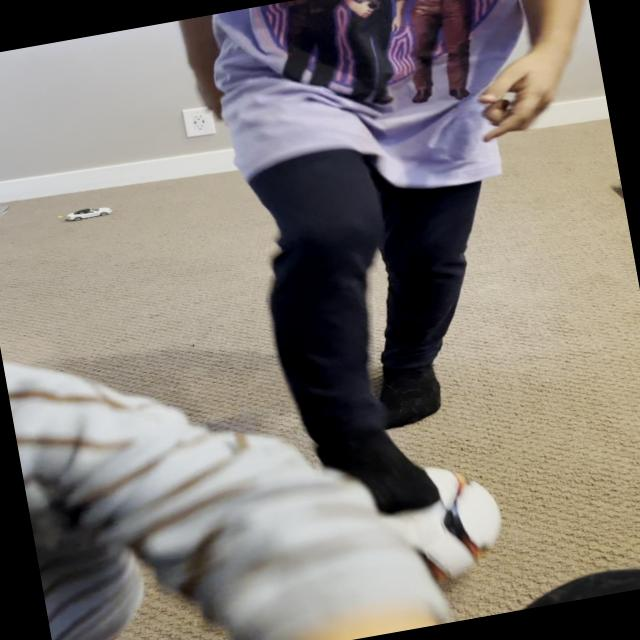Soccer Ball: (268, 452, 512, 618)
